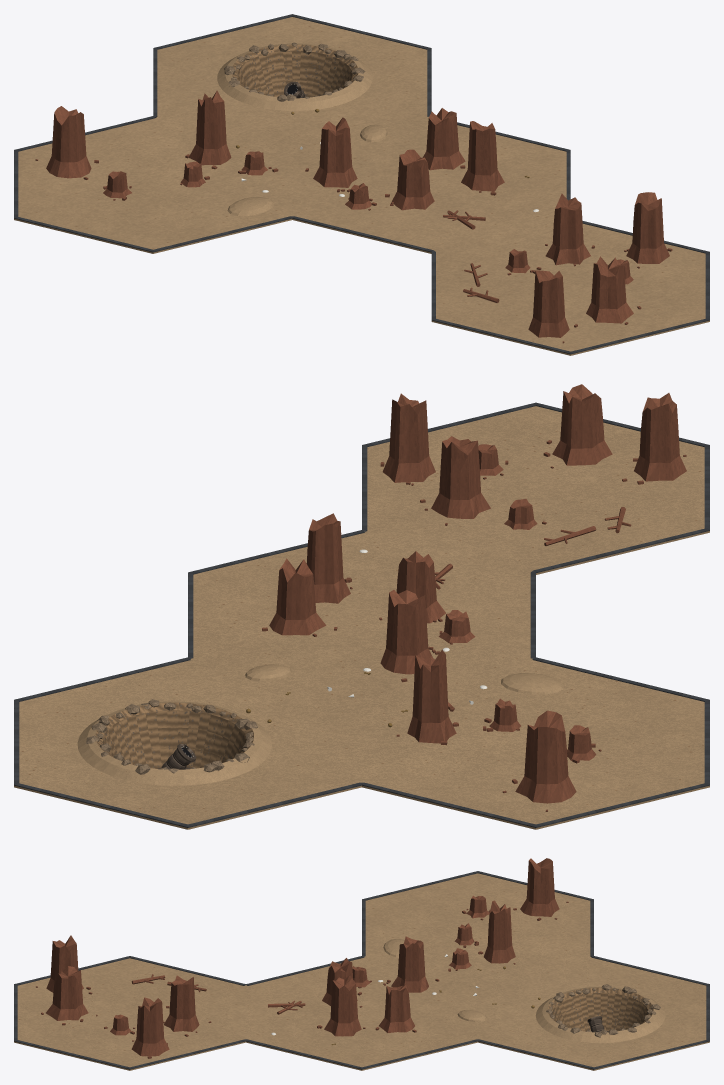
The model's file is WasteHex_PistolM.glb.
3 views of the same model, one above another, from view 1: azimuth 30°, elevation 25°; view 2: azimuth 150°, elevation 25°; view 3: azimuth 270°, elevation 25° (orthographic). The views are drawn at different scales.
Parts seen in each view (by area): view 1: WasteHex_PistolM_Ground, WasteHex_PistolM_Prop_Petrified, WasteHex_PistolM_GroundTrim, WasteHex_PistolM_Prop_PitWall, WasteHex_PistolM_Prop_PitRim, WasteHex_PistolM_Prop_Rock, WasteHex_PistolM_Prop_Drift, WasteHex_PistolM_Prop_Branch; view 2: WasteHex_PistolM_Ground, WasteHex_PistolM_Prop_Petrified, WasteHex_PistolM_GroundTrim, WasteHex_PistolM_Prop_PitWall, WasteHex_PistolM_Prop_PitRim, WasteHex_PistolM_Prop_Rock, WasteHex_PistolM_Prop_Drift, WasteHex_PistolM_Prop_Branch; view 3: WasteHex_PistolM_Ground, WasteHex_PistolM_Prop_Petrified, WasteHex_PistolM_GroundTrim, WasteHex_PistolM_Prop_PitWall, WasteHex_PistolM_Prop_PitRim, WasteHex_PistolM_Prop_Rock, WasteHex_PistolM_Prop_Drift, WasteHex_PistolM_Prop_Branch.
Boxes of the visible parts, x1,y1,x2,y2 form: WasteHex_PistolM_Ground: (14,17,709,355); WasteHex_PistolM_Prop_Petrified: (35,90,672,343); WasteHex_PistolM_GroundTrim: (14,14,709,354); WasteHex_PistolM_Prop_PitWall: (232,44,358,97); WasteHex_PistolM_Prop_PitRim: (217,43,372,110); WasteHex_PistolM_Prop_Rock: (224,42,365,101); WasteHex_PistolM_Prop_Drift: (227,124,387,216); WasteHex_PistolM_Prop_Branch: (443,210,499,302); WasteHex_PistolM_Ground: (14,406,709,829); WasteHex_PistolM_Prop_Petrified: (262,384,686,811); WasteHex_PistolM_GroundTrim: (14,402,709,827); WasteHex_PistolM_Prop_PitWall: (95,702,253,768); WasteHex_PistolM_Prop_PitRim: (77,701,271,785); WasteHex_PistolM_Prop_Rock: (86,699,257,774); WasteHex_PistolM_Prop_Drift: (245,664,563,694); WasteHex_PistolM_Prop_Branch: (435,507,631,589); WasteHex_PistolM_Ground: (14,873,709,1070); WasteHex_PistolM_Prop_Petrified: (36,858,568,1058); WasteHex_PistolM_GroundTrim: (14,871,709,1069); WasteHex_PistolM_Prop_PitWall: (547,987,653,1031); WasteHex_PistolM_Prop_PitRim: (535,987,665,1043); WasteHex_PistolM_Prop_Rock: (546,984,660,1037); WasteHex_PistolM_Prop_Drift: (383,939,486,1022); WasteHex_PistolM_Prop_Branch: (131,974,305,1014).
Bounding box in the file's own units: 21 × 4.54 × 31.18.
Materials: 13 (13 with a texture image).
